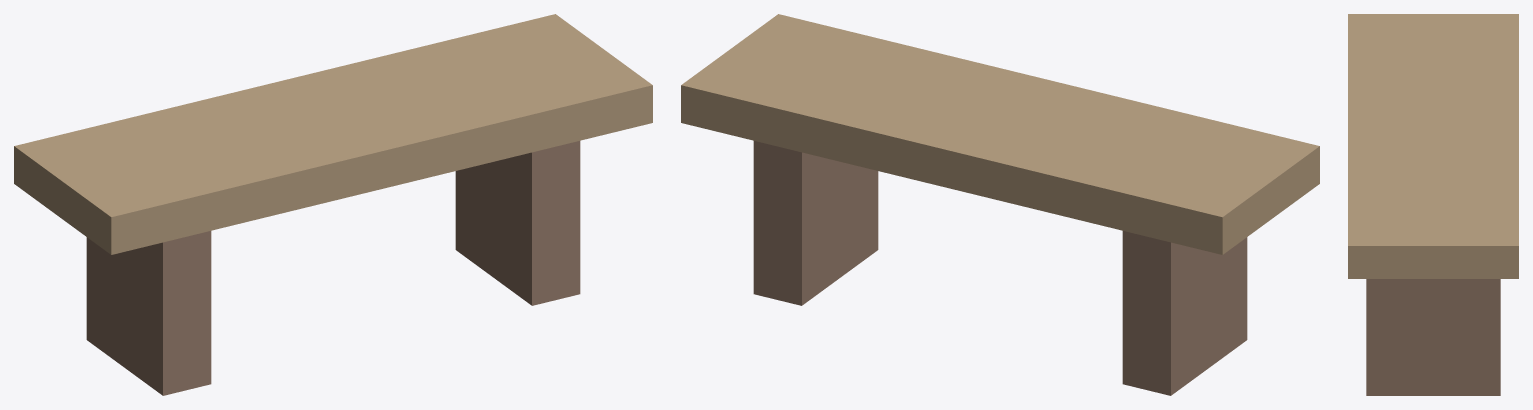
The picture shows the model from 3 angles, left to right: view 1: azimuth 30°, elevation 25°; view 2: azimuth 150°, elevation 25°; view 3: azimuth 270°, elevation 25°; orthographic projection. The views are drawn at different scales.
Parts seen in each view (by area): view 1: C07; view 2: C07; view 3: C07.
Part boxes in pixels (x1,y1,x2,y2): C07: [14, 14, 652, 395]; C07: [681, 14, 1319, 395]; C07: [1348, 14, 1518, 395].
Bounding box in the file's own units: 1.35 × 0.48 × 0.42.
